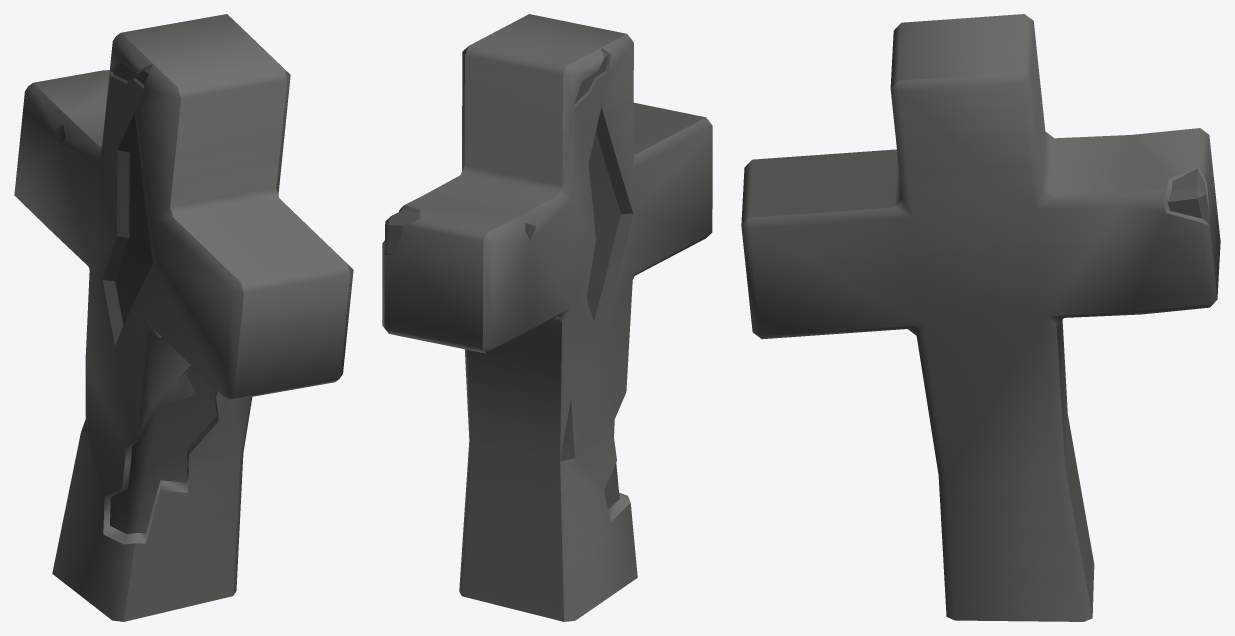
Rendered from Cross_1_3.glb.
The picture shows the model from 3 angles, left to right: view 1: azimuth 30°, elevation 25°; view 2: azimuth 150°, elevation 25°; view 3: azimuth 270°, elevation 25°; orthographic projection. The views are drawn at different scales.
Parts seen in each view (by area): view 1: Cross_1_3; view 2: Cross_1_3; view 3: Cross_1_3.
Boxes of the visible parts, x1,y1,x2,y2 form: Cross_1_3: (14, 14, 353, 621); Cross_1_3: (382, 14, 712, 621); Cross_1_3: (741, 14, 1220, 621).
Bounding box in the file's own units: 0.2816 × 0.9739 × 0.7477.
1 material, 1 textured.
